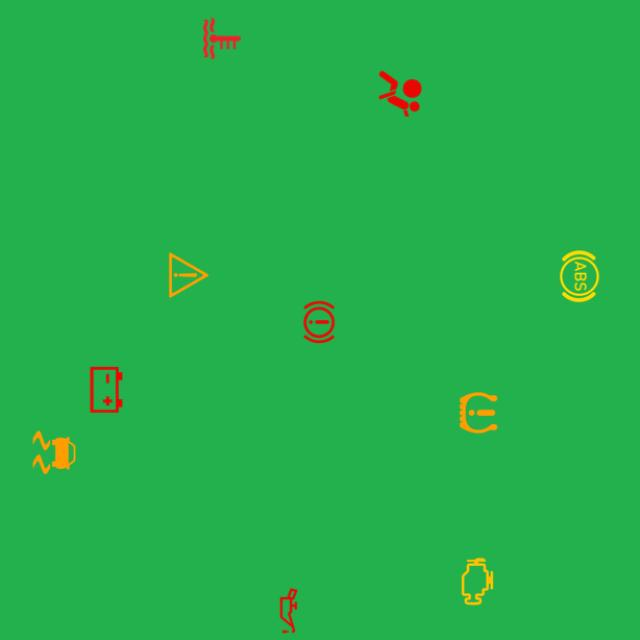Anti Lock Braking System: (551, 248, 608, 304)
Braking System Issue: (291, 294, 347, 350)
Charging System Issue: (78, 362, 135, 418)
Check Engine: (449, 553, 506, 610)
Electronic Stability Problem -ESP-: (26, 424, 82, 481)
Engine Overheating Warning Light: (194, 10, 250, 67)
Low Engine Oil Warning Light: (260, 583, 317, 639)
Low Tire Pressure Warning Light: (450, 385, 507, 441)
Master warning light: (160, 247, 217, 303)
SRS-Airbag: (372, 66, 429, 122)
